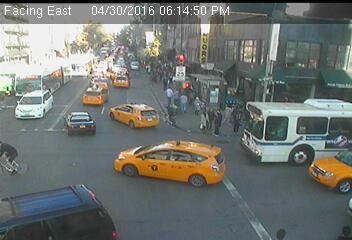neg: (269, 141, 303, 186), (59, 137, 91, 179), (203, 10, 231, 46), (255, 137, 280, 170), (203, 181, 225, 211), (123, 148, 145, 177), (267, 48, 289, 77), (299, 95, 319, 123), (124, 193, 143, 219), (40, 7, 50, 21)
